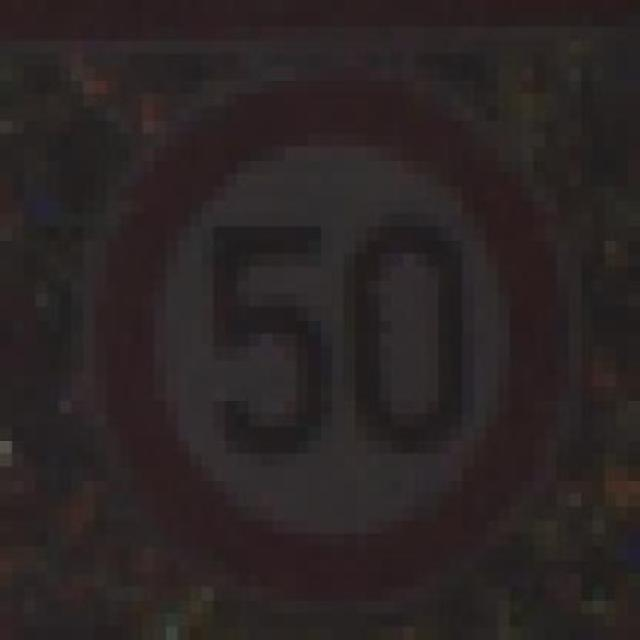50 mph speed limit: (94, 67, 606, 587)
